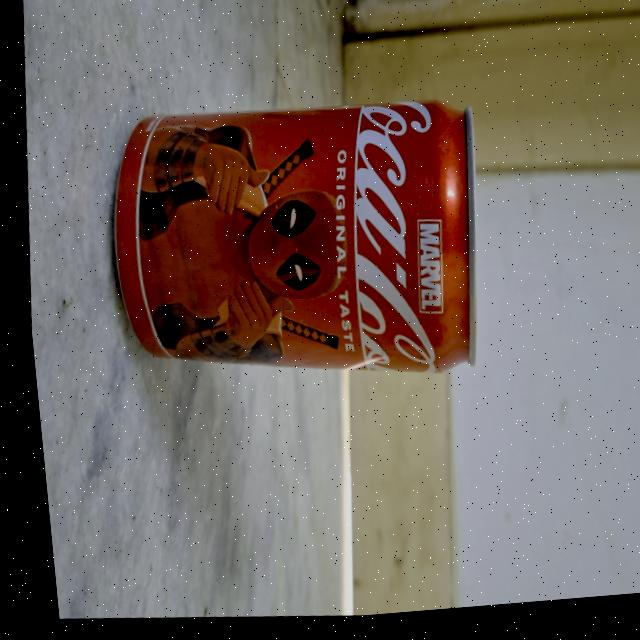Coca Cola - Marvel: (89, 87, 486, 395)
